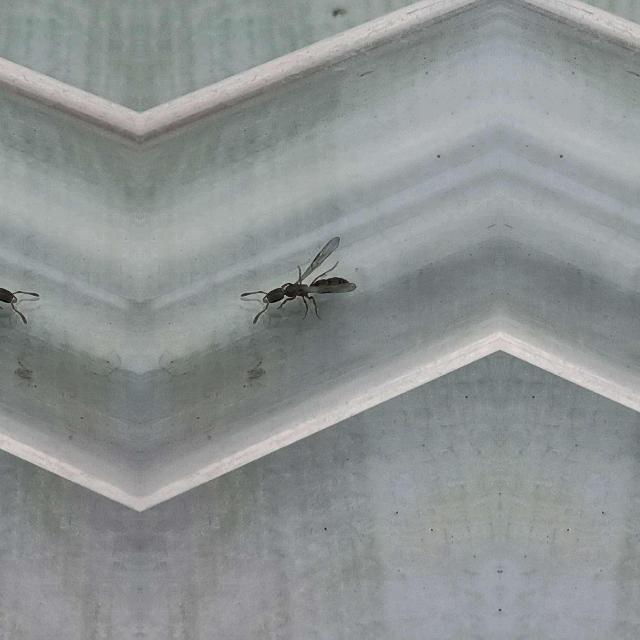Ponera: (235, 246, 362, 330), (0, 246, 42, 330)
